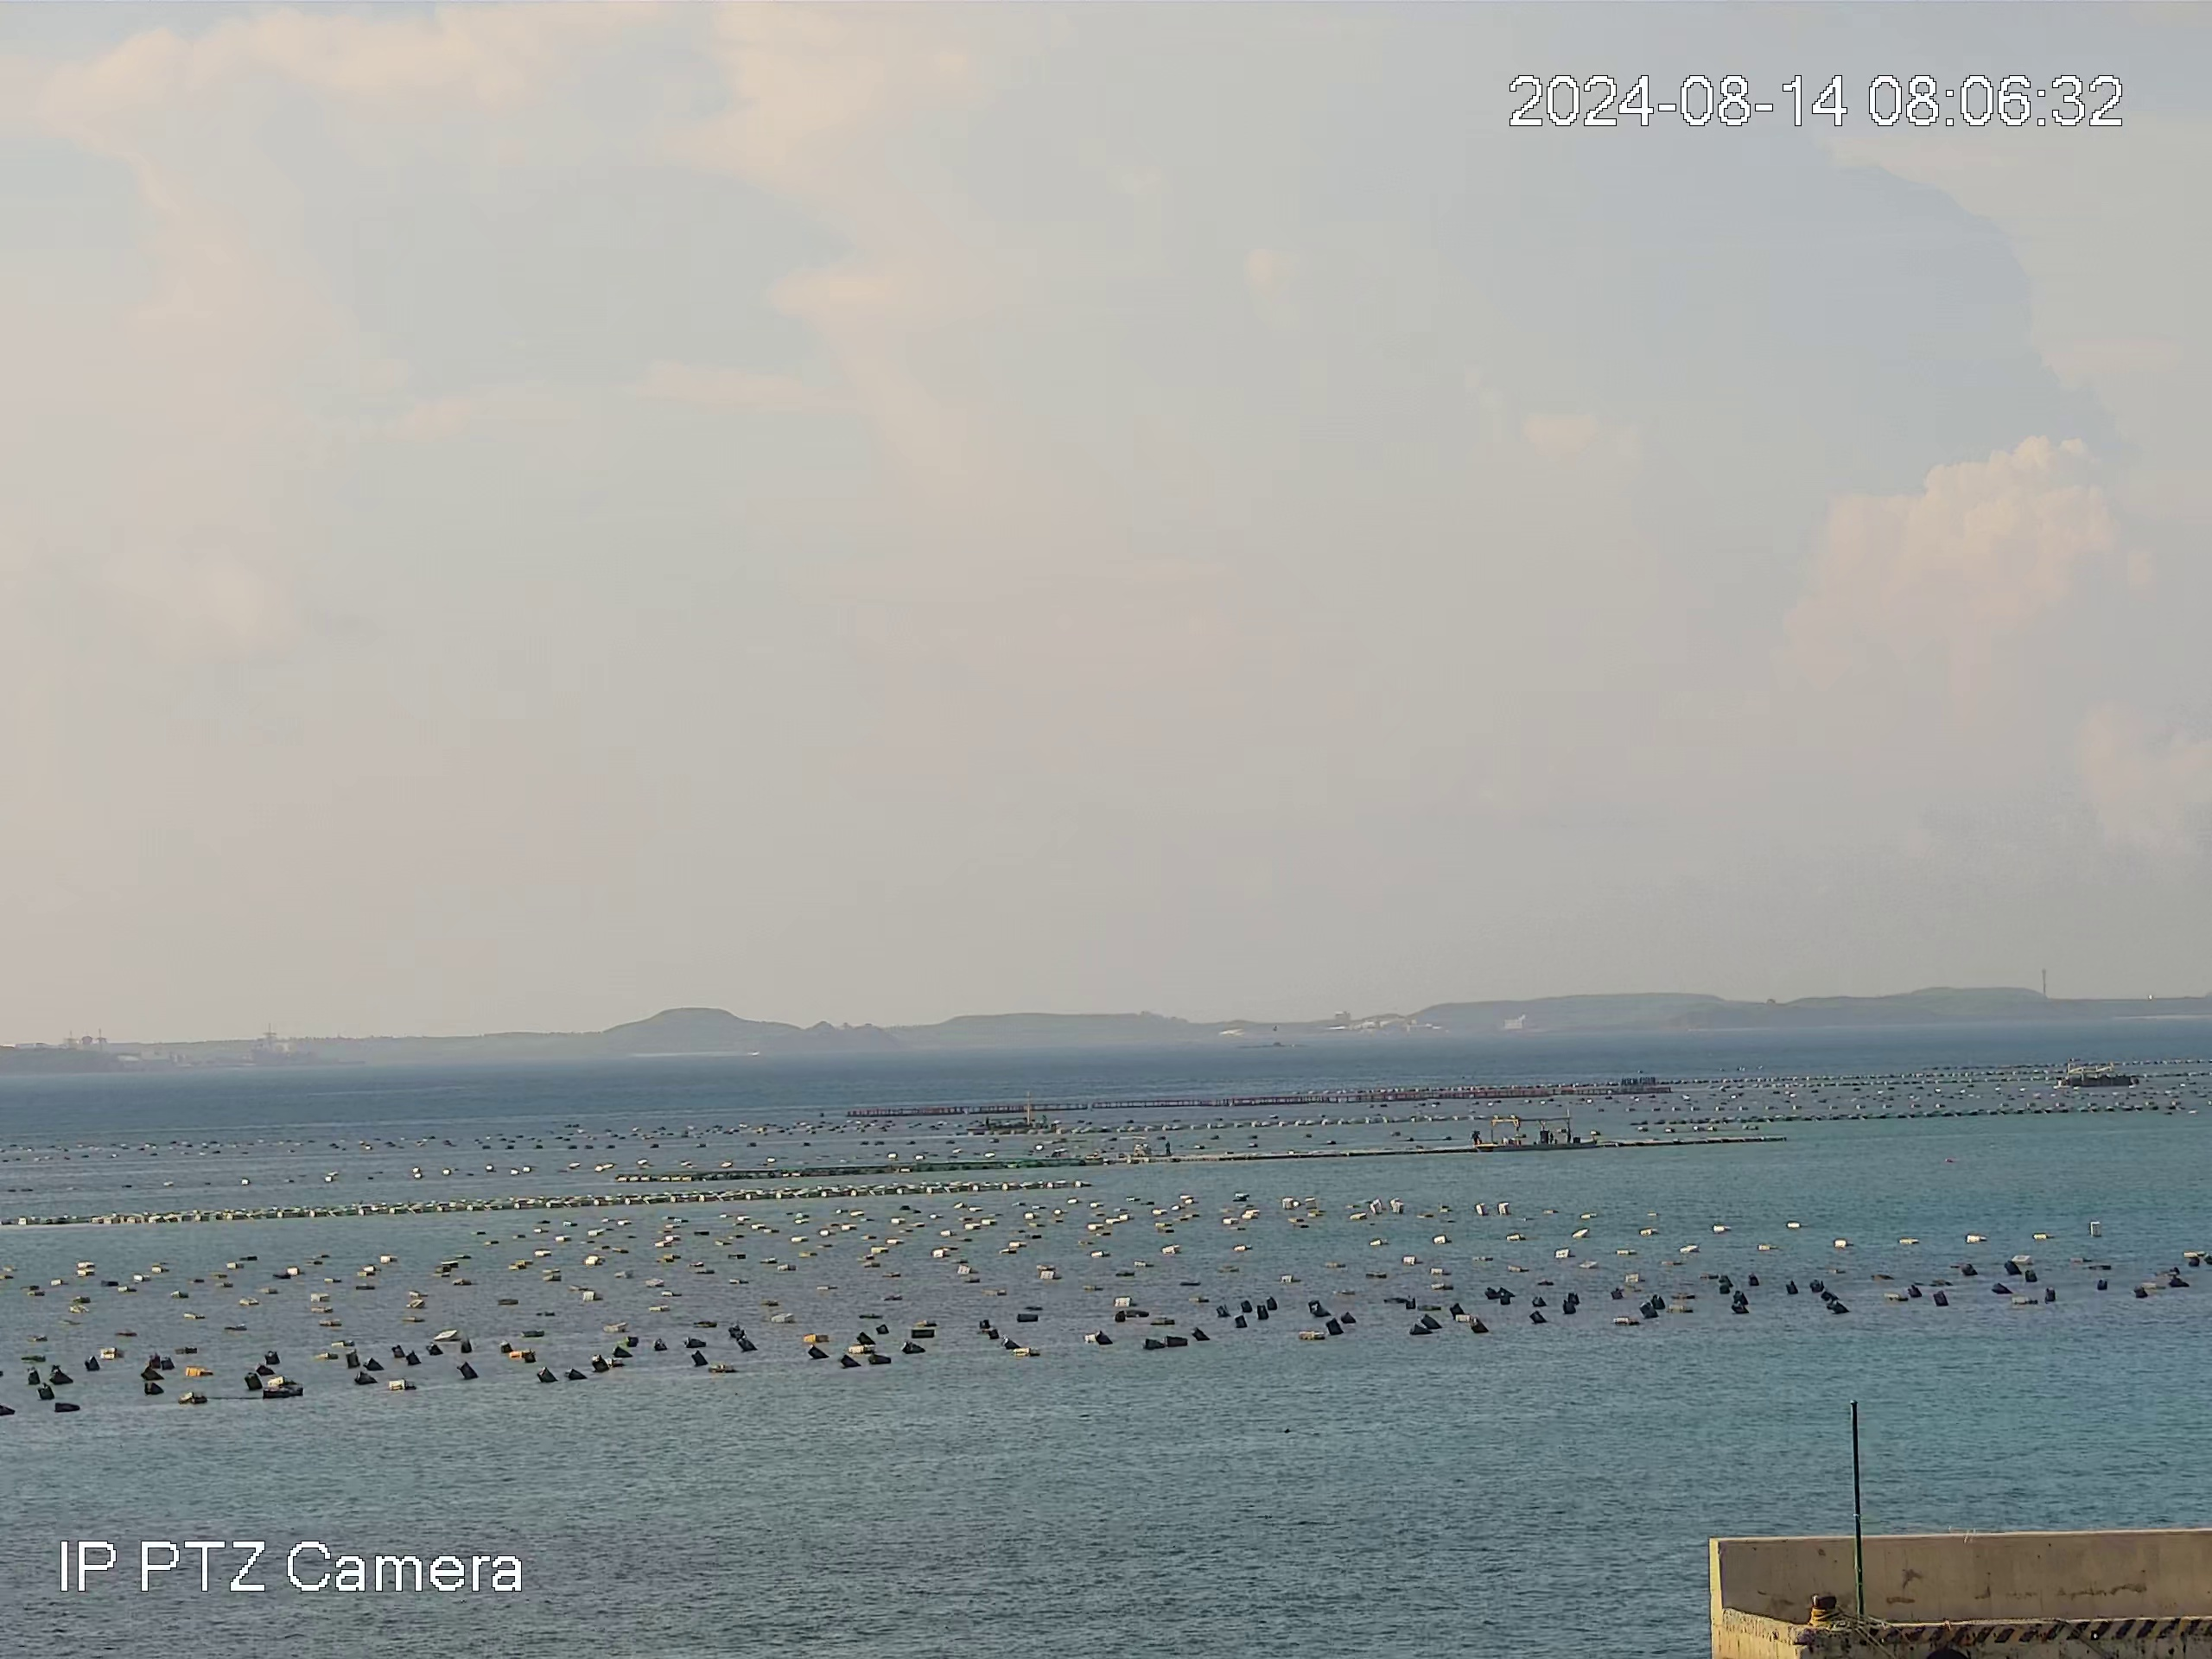boat: (1474, 1110, 1601, 1152), (2059, 1063, 2149, 1089)
